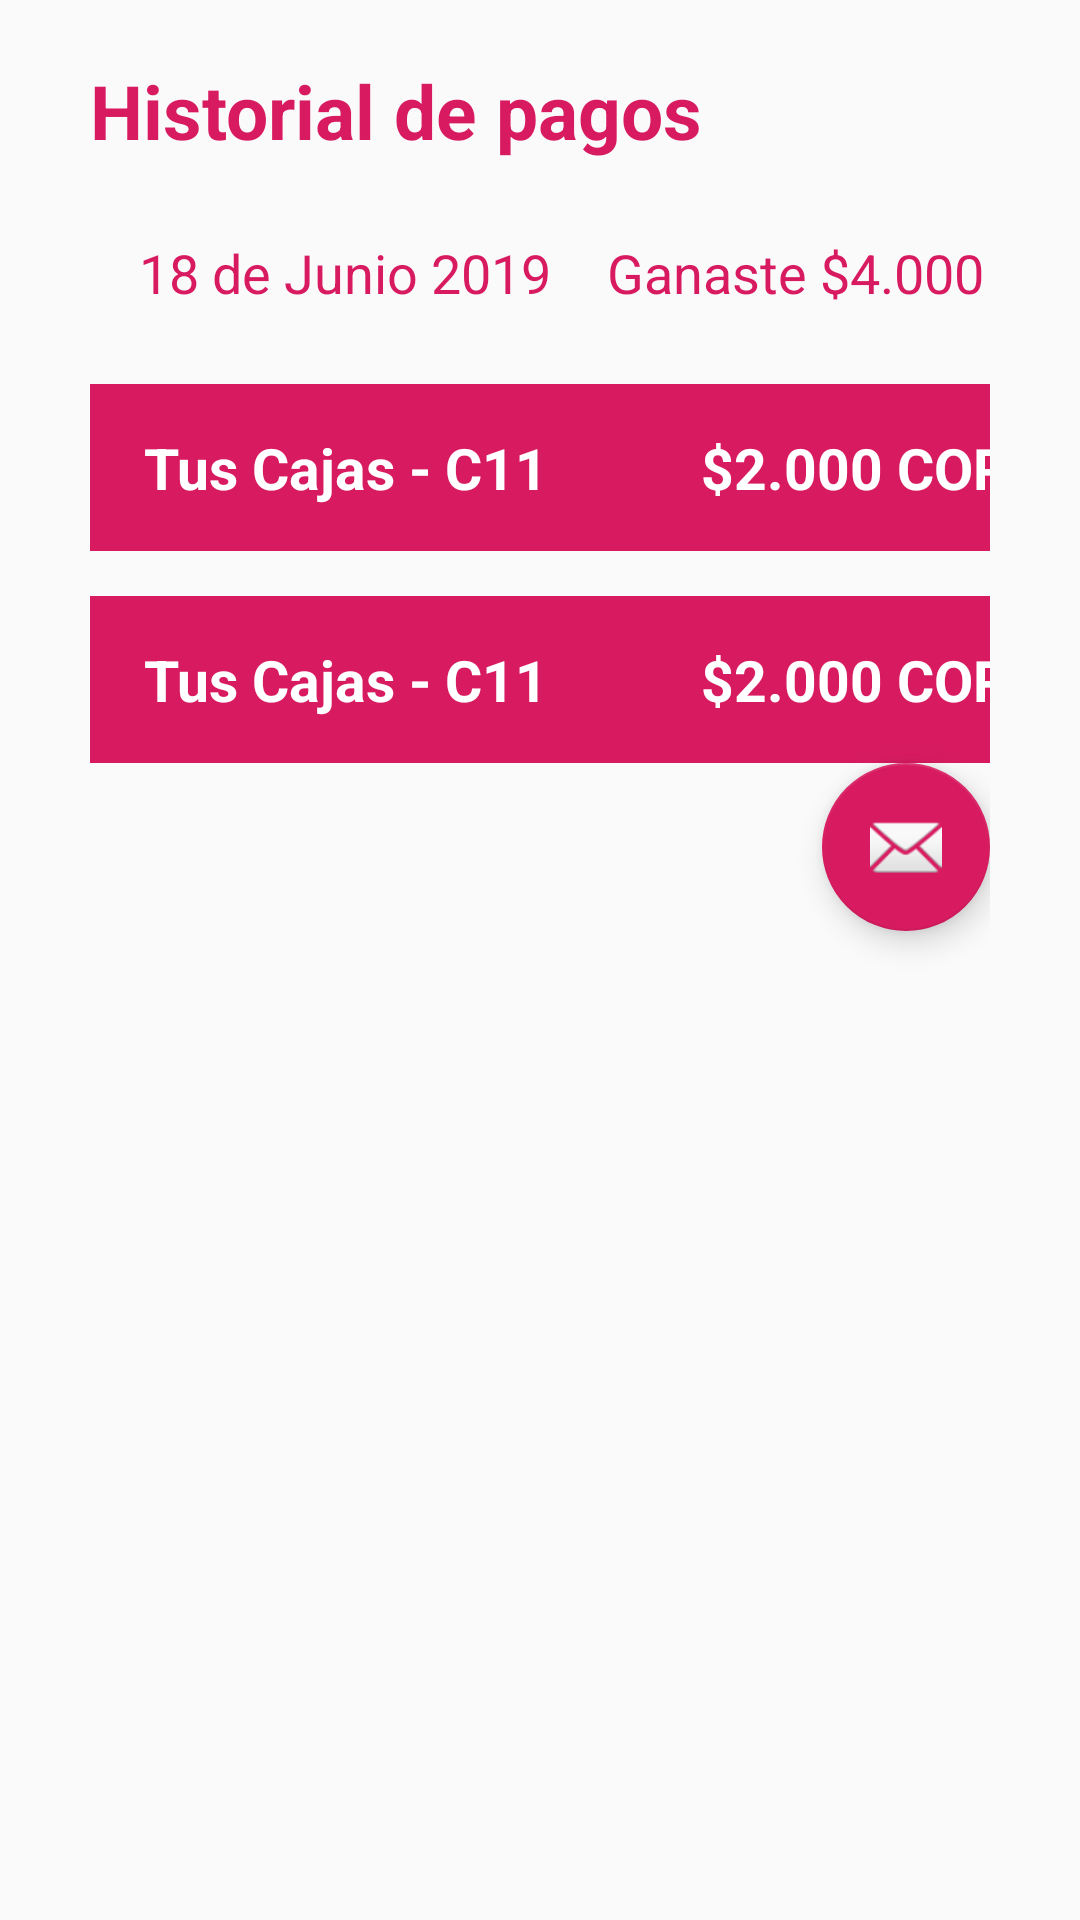

Where icons sit on this 1080px x 1920px app screen, as (x1, y1, x2, y2):
email: (822, 763, 990, 931)
